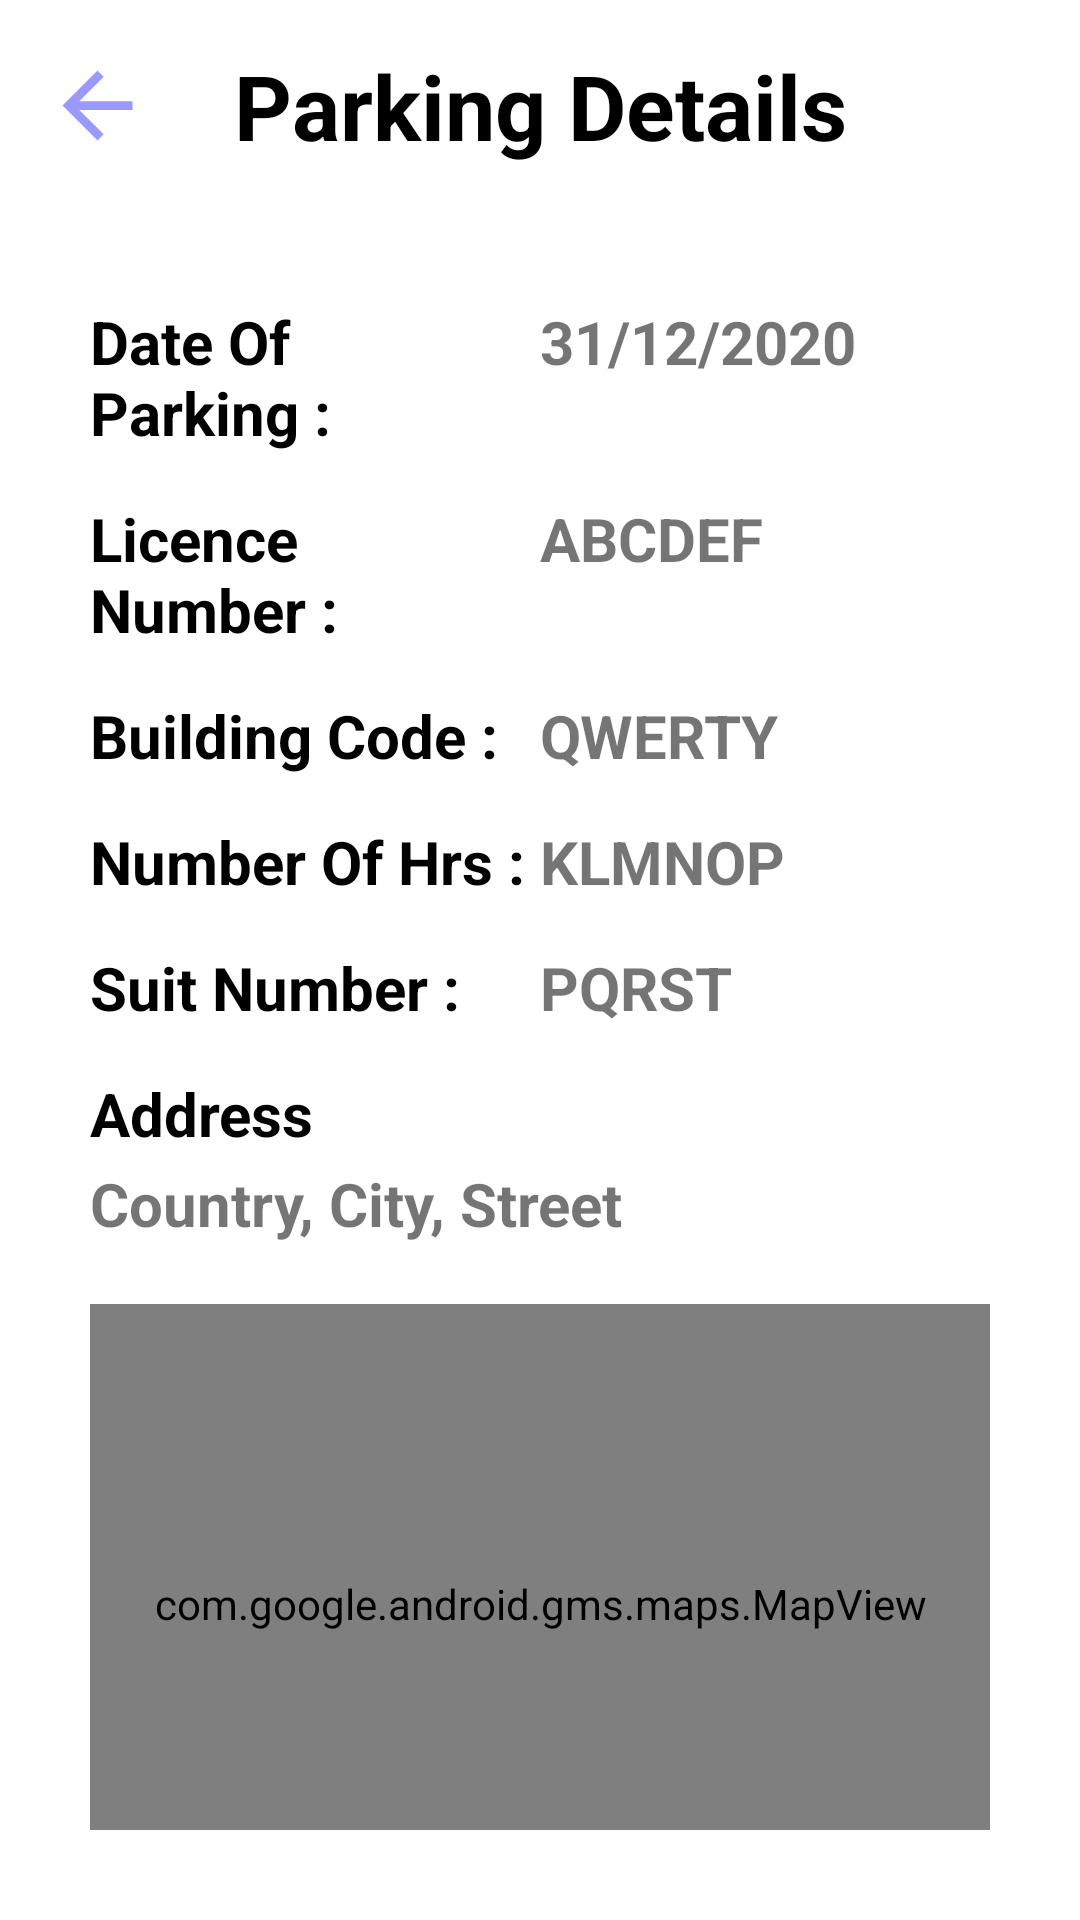

Named icons in this screenshot (1080px×1920px) and their centers, (x,y):
arrow back: (97,105)
